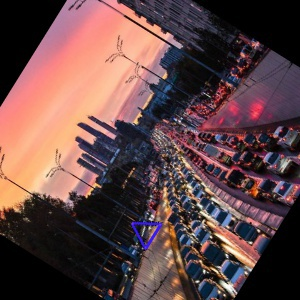triangle: (126, 216, 163, 251)
